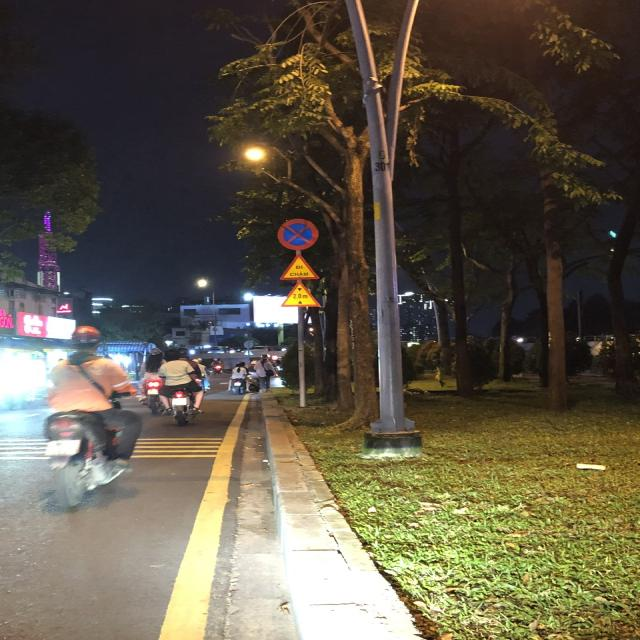Bien bao cam dung xe va do xe: (272, 217, 322, 252)
Bien bao chieu cao tinh khong thuc te: (277, 281, 324, 309)
Bien bao di cham: (275, 252, 324, 282)
